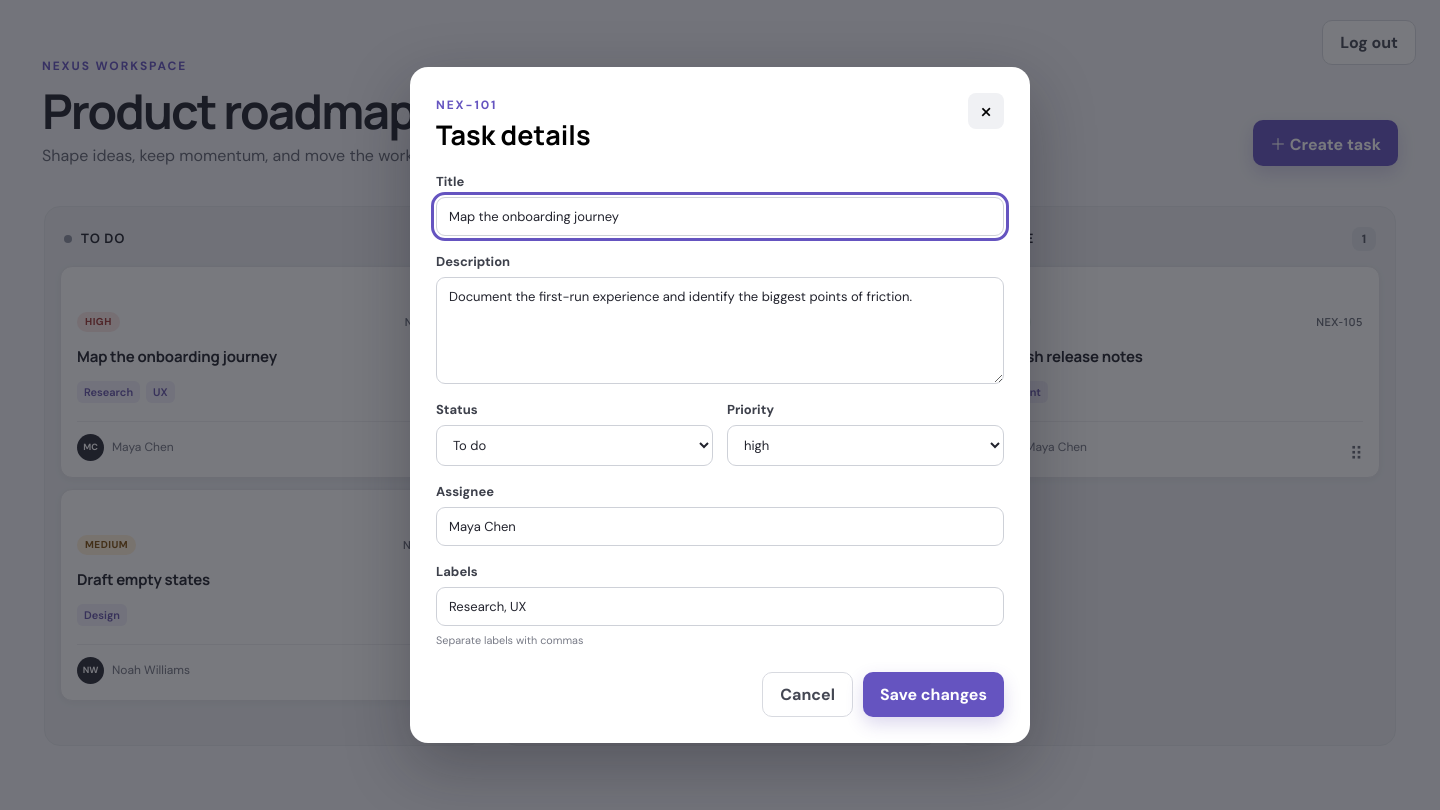
Test: failed task request remains on the task route
Click the button "Save changes": click(933, 695) [863,672,1004,717]
(page scrolled)
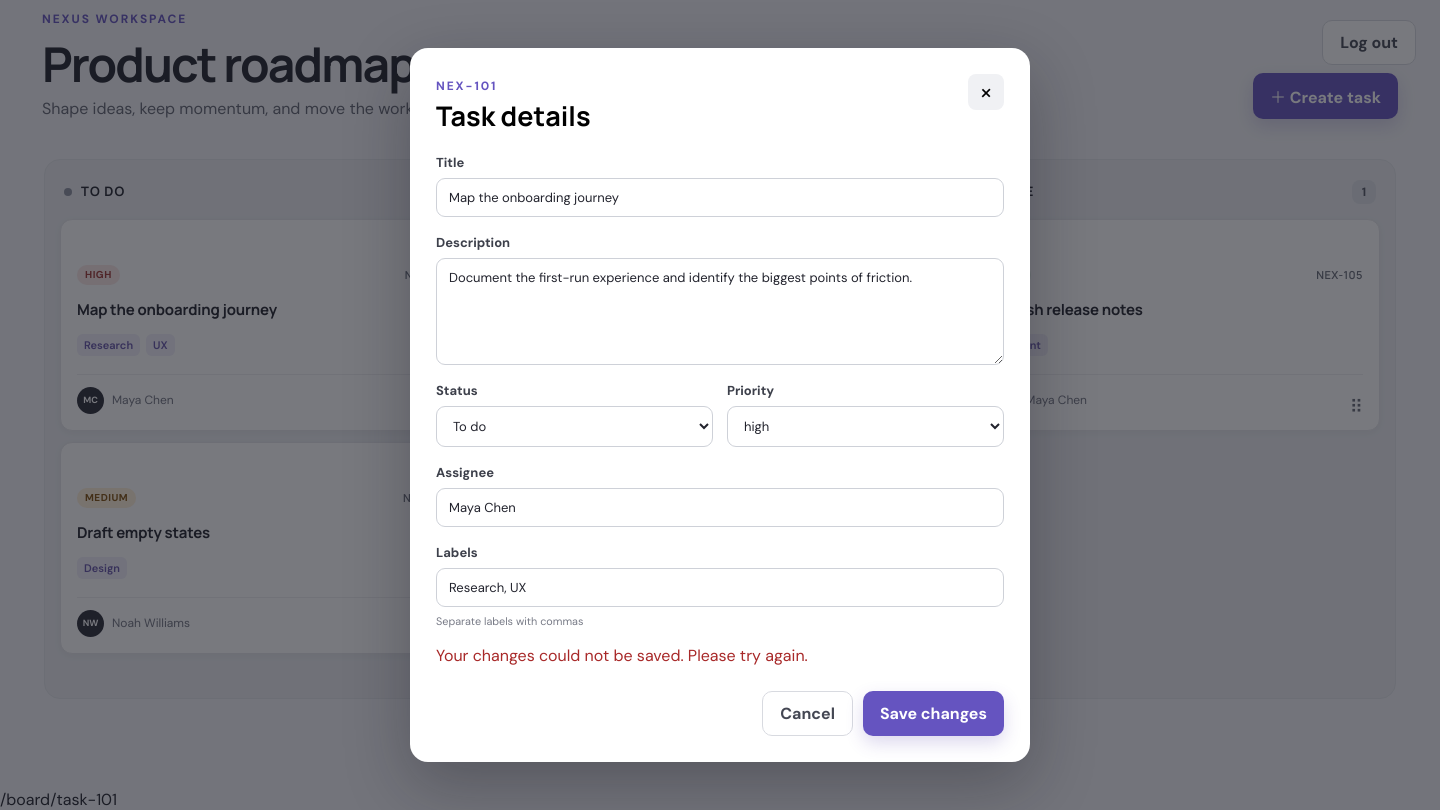
Expected: the text with test id "current-path" reads "/board/task-101", [0,789,117,809]
Result: the message shows "Your changes could not be saved" at [436,645,808,666]
